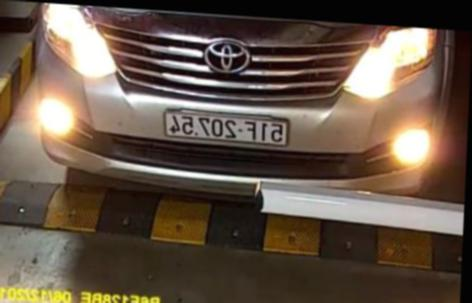License_Plate: (162, 106, 290, 150)
